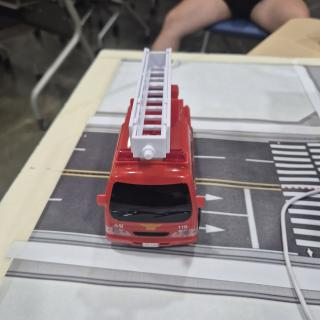Fire_truck: (97, 49, 205, 248)
